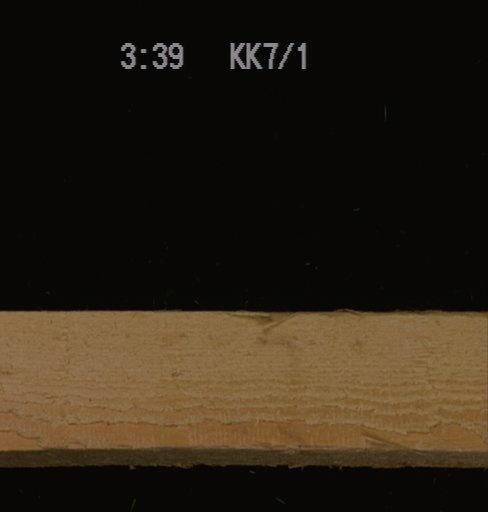split: (258, 310, 303, 333)
